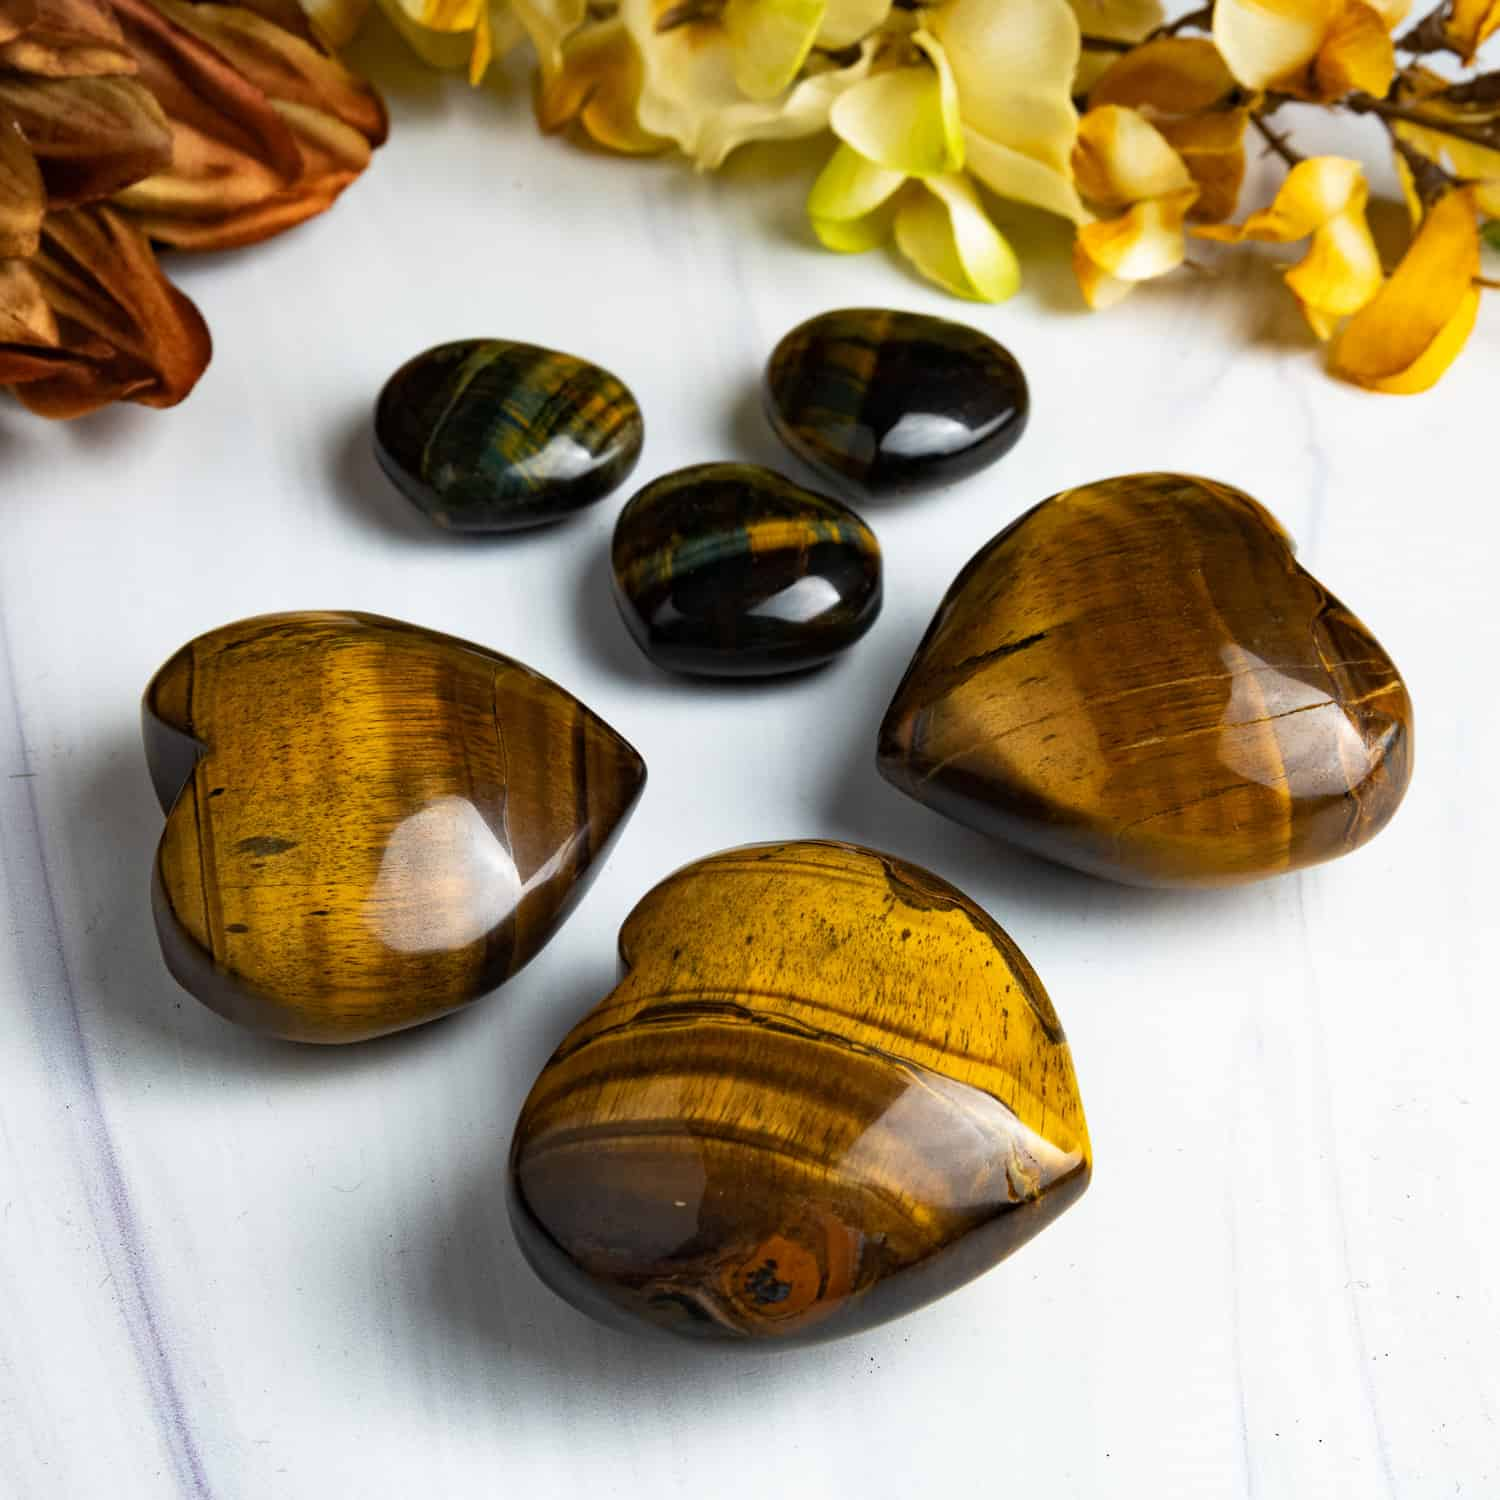Tigers_Eye: (497, 843, 1096, 1368), (109, 593, 655, 1051), (348, 327, 650, 540)
